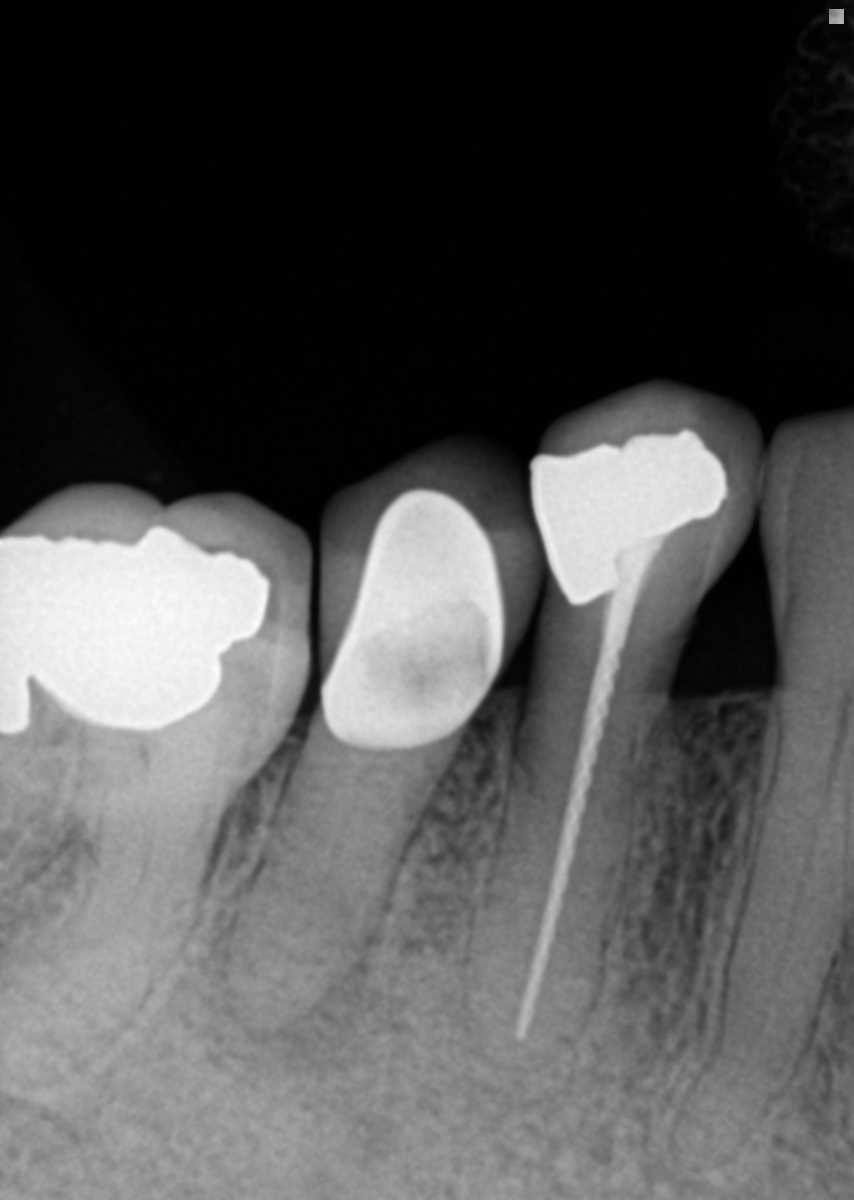Apical Lesion: (199, 891, 391, 1077)
Distal Root: (0, 730, 82, 892)
Main Canal: (729, 720, 852, 1091), (320, 751, 379, 891)
Main Root: (675, 686, 854, 1172), (466, 683, 666, 1064), (228, 739, 442, 1040)
Mesial Canal: (123, 795, 156, 914)
Mesial Root: (0, 800, 220, 1086)
